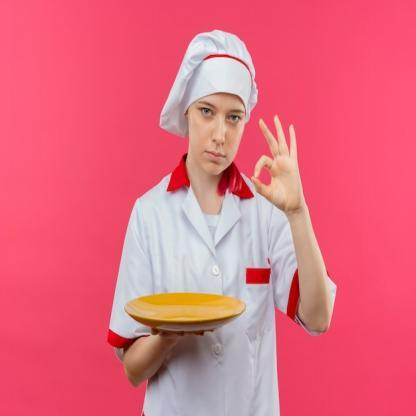ok: (250, 113, 304, 216)
